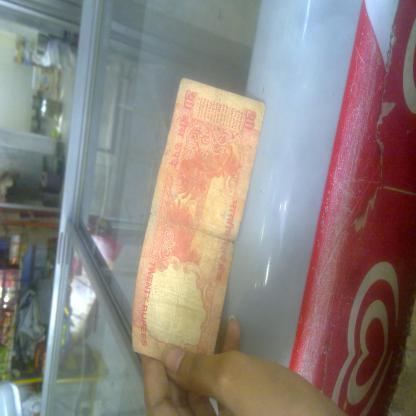Old20Back: (132, 78, 265, 361)
